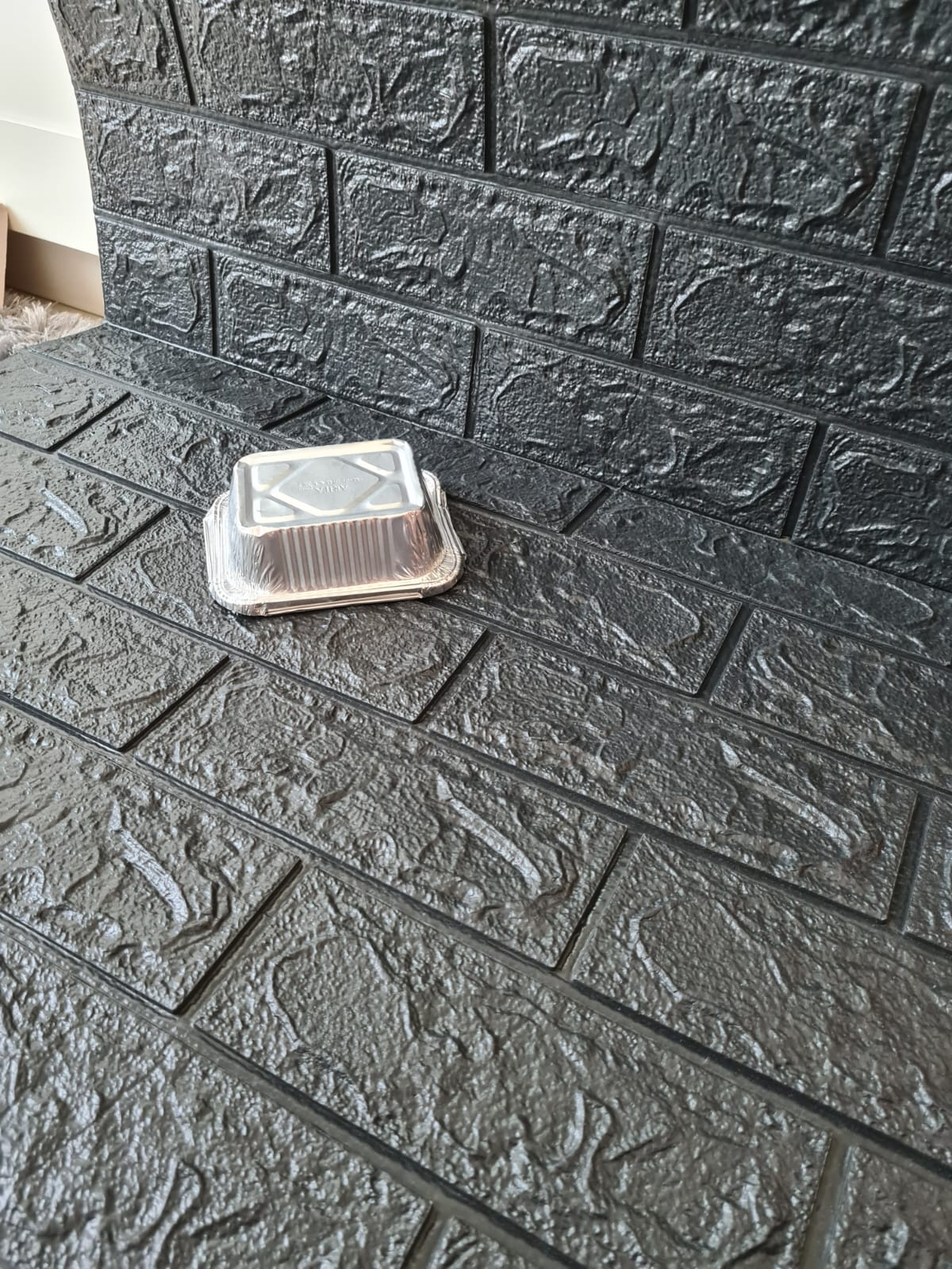Metal: (206, 444, 485, 619)
